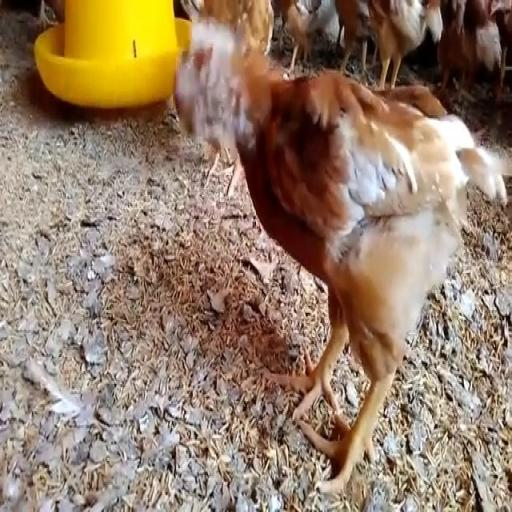disease: (180, 48, 240, 172)
